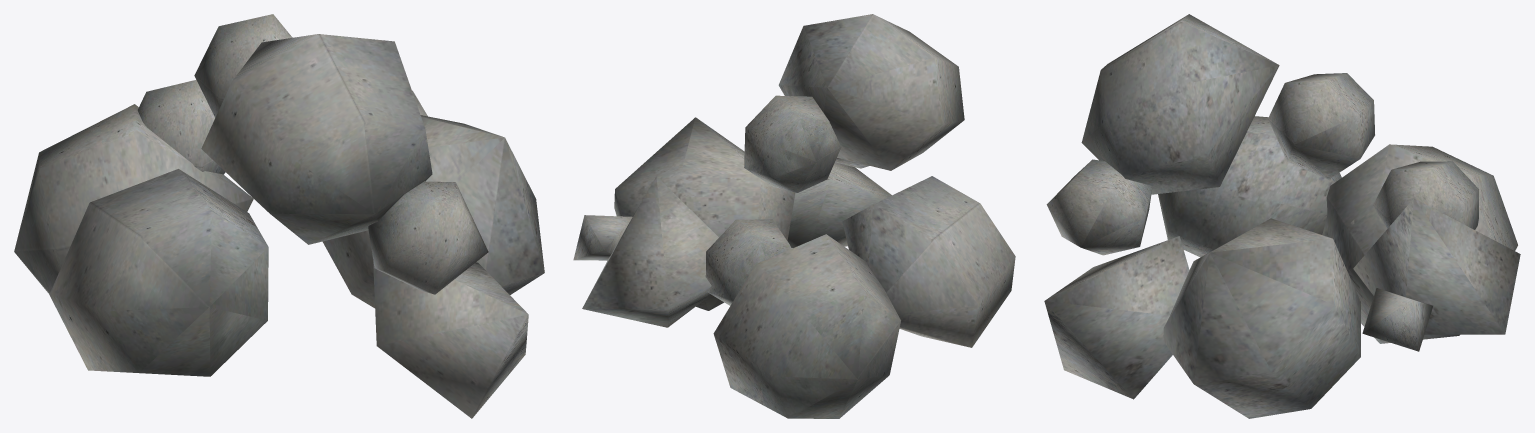
Rendered from stone_effect2.obj.
3 renders of one model, left to right at view 1: azimuth 30°, elevation 25°; view 2: azimuth 150°, elevation 25°; view 3: azimuth 270°, elevation 25°, orthographic. The views are drawn at different scales.
Visible parts, largest first — view 1: Sphere011; view 2: Sphere011; view 3: Sphere011.
Boxes of the visible parts, left/top/right/bottom form: Sphere011: left=14, top=14, right=544, bottom=418; Sphere011: left=573, top=14, right=1015, bottom=418; Sphere011: left=1044, top=14, right=1520, bottom=418.
Bounding box in the file's own units: 112 × 86.21 × 113.
1 material, 1 textured.
